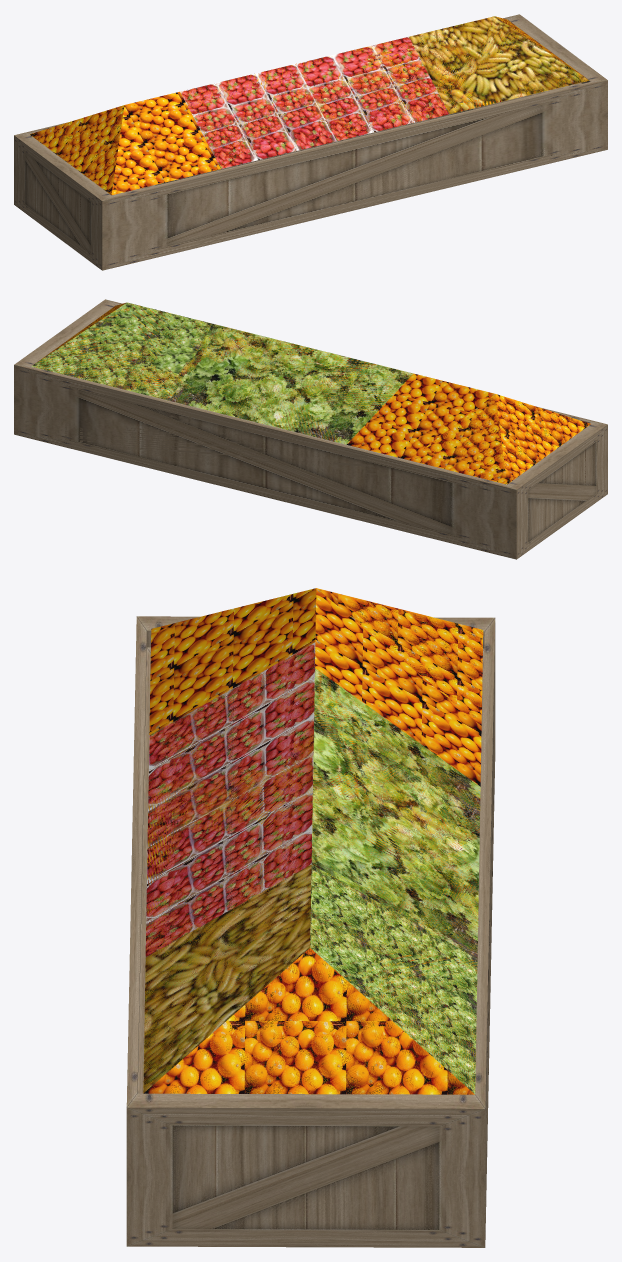
File: fruits.dae
The picture shows the model from 3 angles, top to bottom: view 1: azimuth 30°, elevation 25°; view 2: azimuth 150°, elevation 25°; view 3: azimuth 270°, elevation 25°; orthographic projection. The views are drawn at different scales.
Visible parts, largest first — view 1: group_1 (×2), group_2 (×3); view 2: group_1, group_2 (×2); view 3: group_2 (×5), group_1 (×2).
Boxes of the visible parts, x1,y1,x2,y2 form: group_1 (×2): (14,14,607,270); group_2 (×3): (30,16,588,195); group_1: (14,299,607,559); group_2 (×2): (31,302,590,484); group_2 (×5): (143,588,483,1094); group_1 (×2): (126,616,495,1247).
Size of the model in its own units: 125 by 39.64 by 27.64.
Materials: 7 (6 with a texture image).
